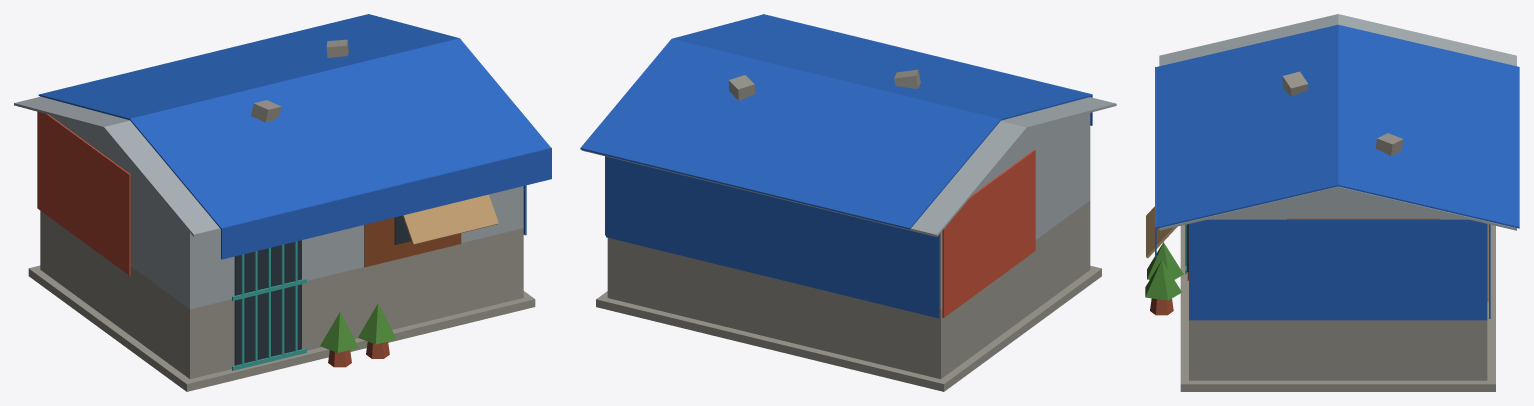
Rendered from BAY_I_TarpShack_J.glb.
3 renders of one model, left to right at view 1: azimuth 30°, elevation 25°; view 2: azimuth 150°, elevation 25°; view 3: azimuth 270°, elevation 25°, orthographic.
Visible parts, largest first — view 1: BAY_I_TarpShack_J; view 2: BAY_I_TarpShack_J; view 3: BAY_I_TarpShack_J.
Part boxes in pixels (x1,y1,x2,y2): BAY_I_TarpShack_J: (14,14,551,391); BAY_I_TarpShack_J: (580,14,1116,391); BAY_I_TarpShack_J: (1145,14,1519,391).
Size of the model in its own units: 4.8 by 2.76 by 4.39.
1 material, 1 textured.
